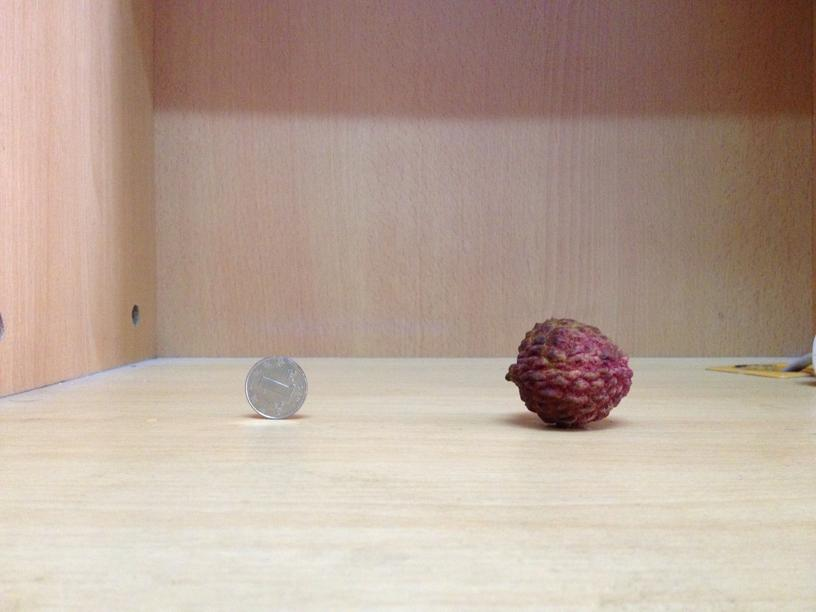coin: (245, 355, 307, 417)
litchi: (512, 317, 632, 426)
